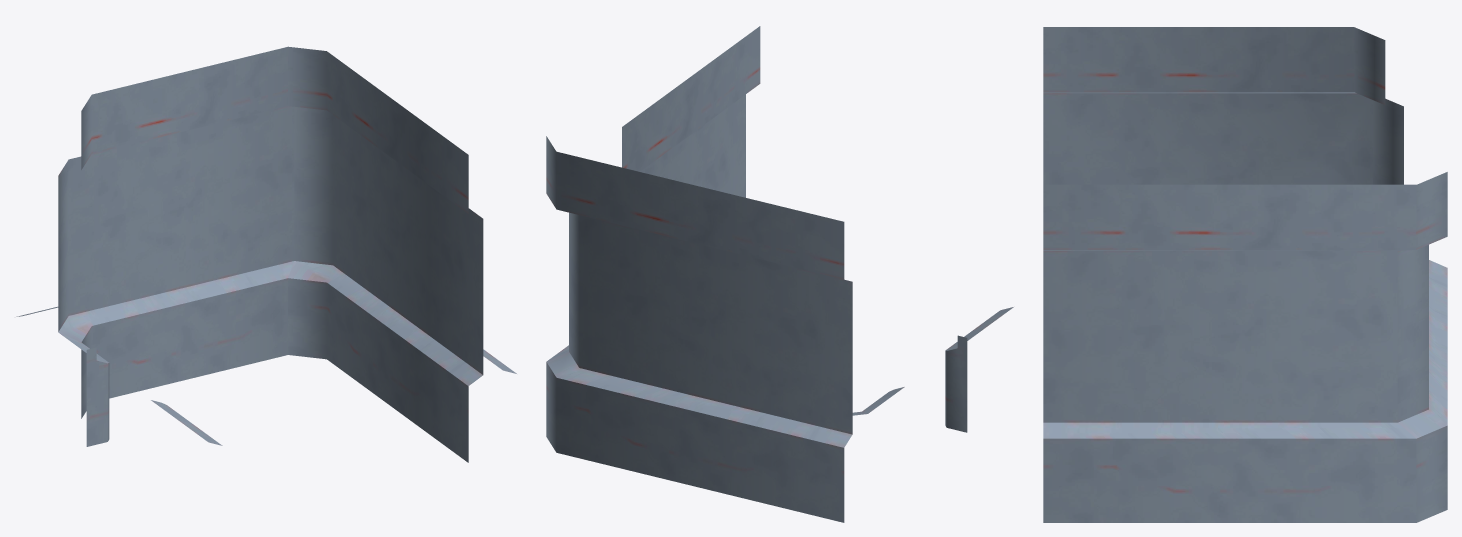
Rendered from Wall_MTNDoor_End_1.glb.
3 views of the same model, side by side, from view 1: azimuth 30°, elevation 25°; view 2: azimuth 150°, elevation 25°; view 3: azimuth 270°, elevation 25° (orthographic). The views are drawn at different scales.
Visible parts, largest first — view 1: Wall_MTNDoor_End_1; view 2: Wall_MTNDoor_End_1; view 3: Wall_MTNDoor_End_1.
Part boxes in pixels (x1,y1,x2,y2): Wall_MTNDoor_End_1: (16, 46, 516, 462); Wall_MTNDoor_End_1: (546, 26, 1013, 522); Wall_MTNDoor_End_1: (1043, 27, 1447, 522).
Size of the model in its own units: 6.5 by 6 by 6.5.
1 material, 1 textured.
